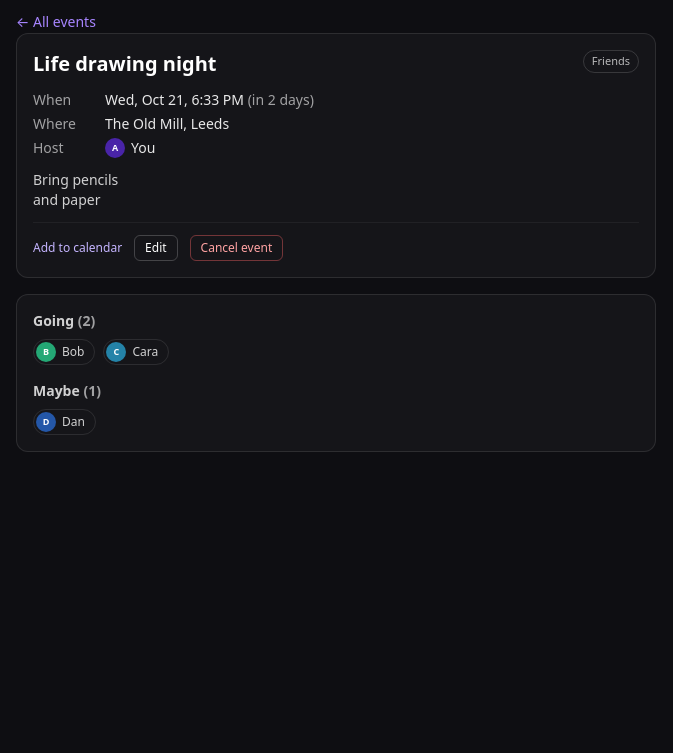
Test: EventDetailPage › lets the host change it, and shows it marked as edited
Click the button "Edit" at (156, 248), box [134,235,178,261]
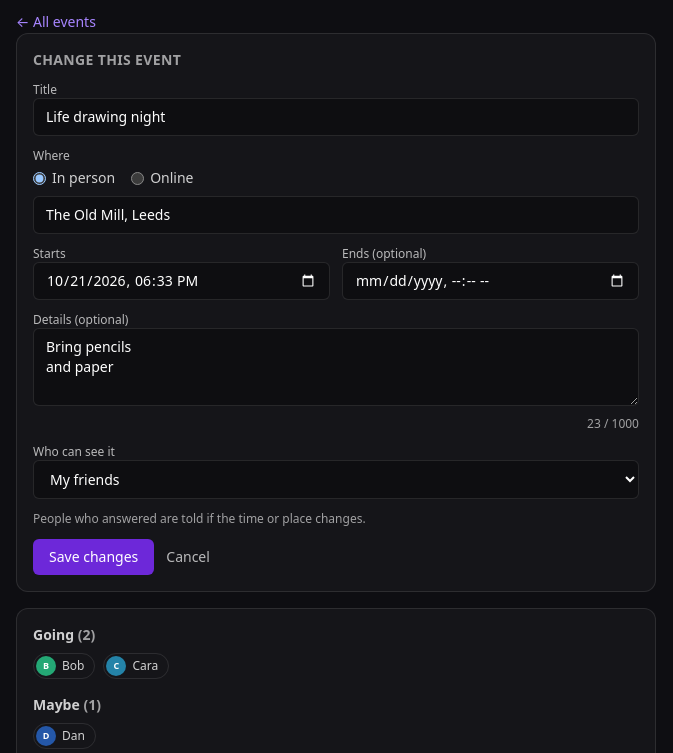
Type "Life drawing, late" into the field labelled "Title" at (336, 117), box [33,98,639,136]
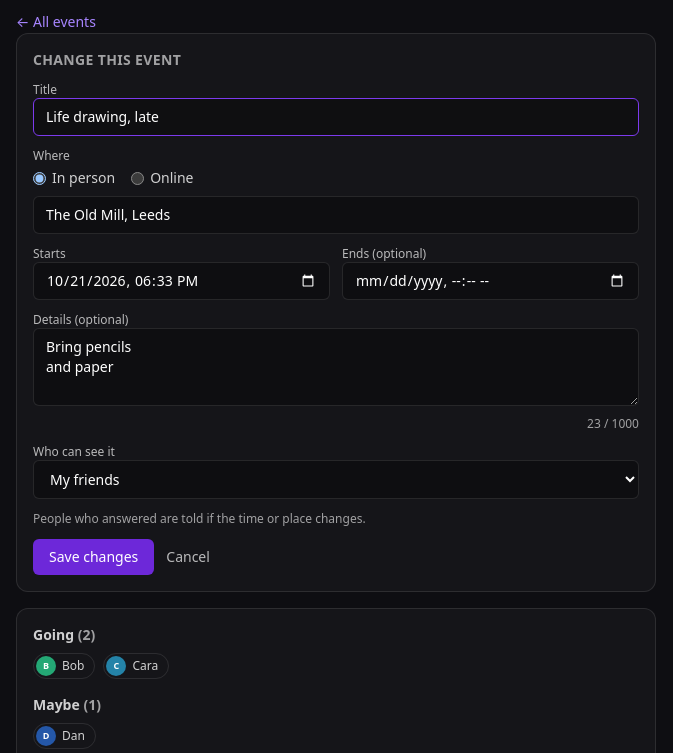
Click the button "Save changes" at (94, 557), box [33,539,154,575]
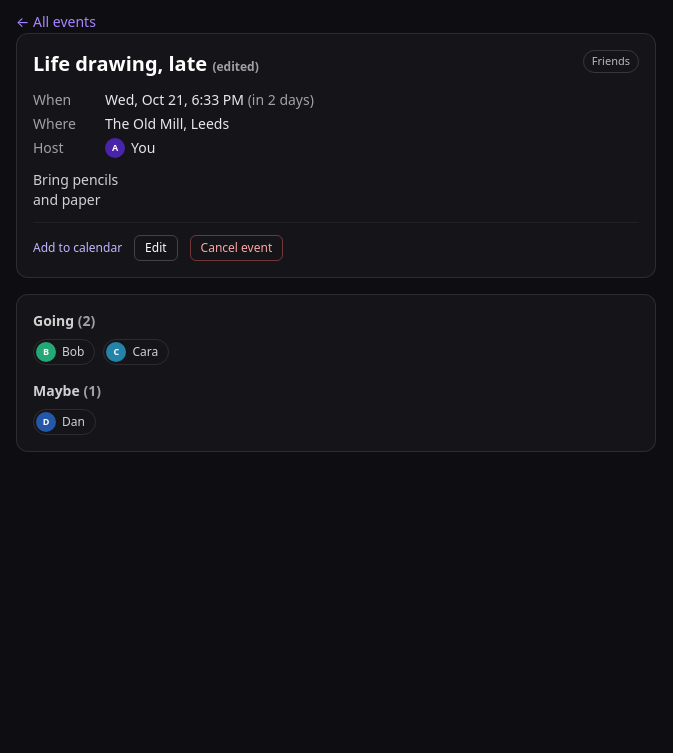
expect the heading "Life drawing, late (edited)" is shown: met, box [33,50,259,78]
expect the text "(edited)" is shown: met, box [212,58,259,75]
